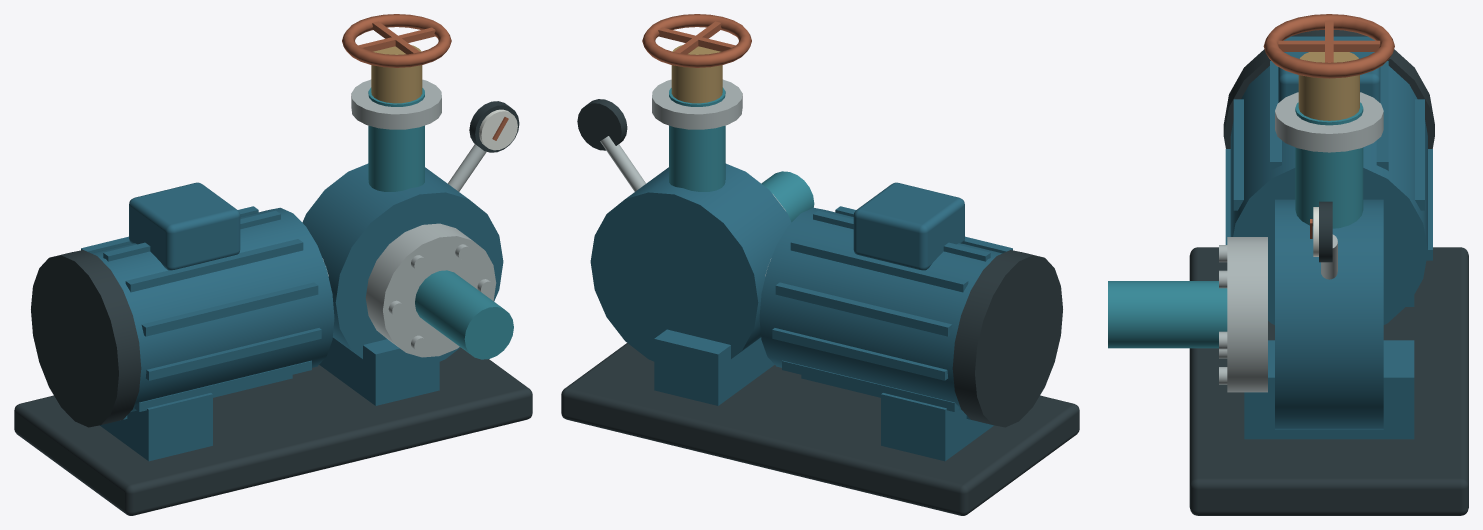
The model's file is pump.glb.
3 views of the same model, side by side, from view 1: azimuth 30°, elevation 25°; view 2: azimuth 150°, elevation 25°; view 3: azimuth 270°, elevation 25° (orthographic). The views are drawn at different scales.
Visible parts, largest first — view 1: Pump enamel / petrol blue, Powder coated graphite, Brushed stainless steel, Chilled water / blue, Return water / terracotta, Valve brass, Ivory enamel; view 2: Pump enamel / petrol blue, Powder coated graphite, Chilled water / blue, Return water / terracotta, Brushed stainless steel, Valve brass; view 3: Pump enamel / petrol blue, Powder coated graphite, Chilled water / blue, Brushed stainless steel, Return water / terracotta, Valve brass.
Part boxes in pixels (x1,y1,x2,y2): Pump enamel / petrol blue: [81, 163, 503, 461]; Powder coated graphite: [14, 101, 532, 515]; Brushed stainless steel: [322, 79, 496, 357]; Chilled water / blue: [368, 87, 513, 359]; Return water / terracotta: [342, 14, 508, 140]; Valve brass: [371, 45, 422, 103]; Ivory enamel: [479, 109, 517, 150]; Pump enamel / petrol blue: [590, 163, 1012, 461]; Powder coated graphite: [561, 99, 1079, 515]; Chilled water / blue: [669, 87, 814, 222]; Return water / terracotta: [642, 14, 751, 67]; Brushed stainless steel: [600, 79, 785, 276]; Valve brass: [671, 45, 722, 103]; Pump enamel / petrol blue: [1225, 36, 1432, 439]; Powder coated graphite: [1189, 30, 1468, 515]; Chilled water / blue: [1108, 102, 1363, 348]; Brushed stainless steel: [1219, 92, 1383, 392]; Return water / terracotta: [1263, 14, 1394, 238]; Valve brass: [1298, 52, 1359, 120].
Bounding box in the file's own units: 1.81 × 1.4 × 1.06.
